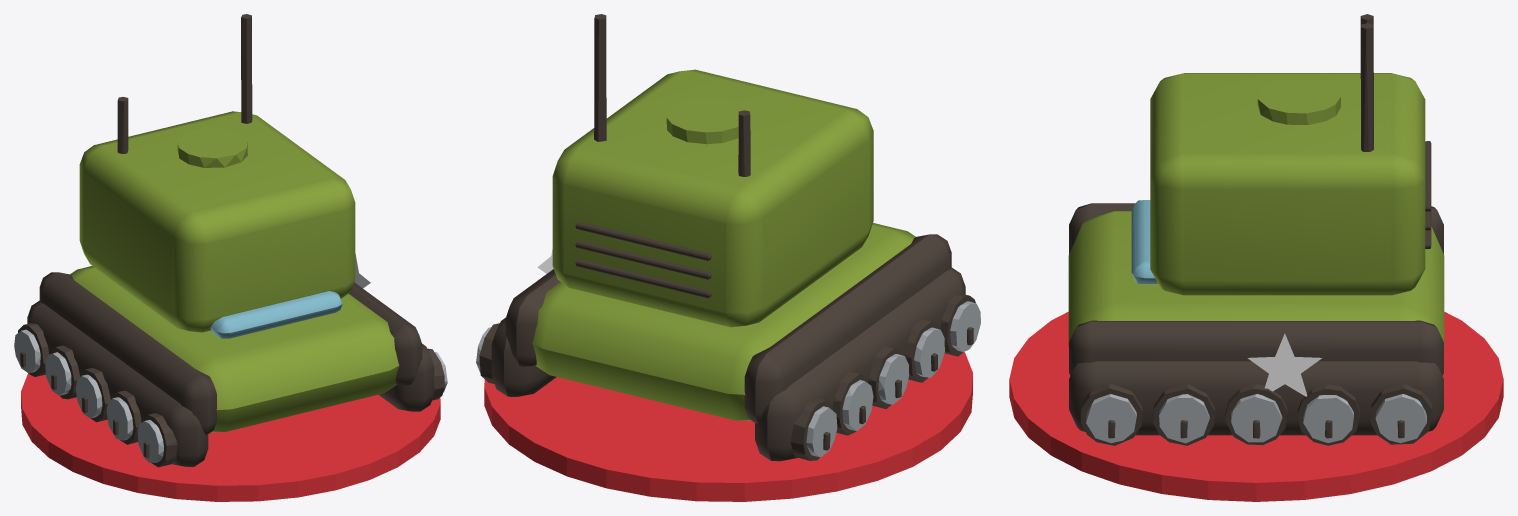
File: usa_headquarters_lod0.glb
3 renders of one model, left to right at view 1: azimuth 30°, elevation 25°; view 2: azimuth 150°, elevation 25°; view 3: azimuth 270°, elevation 25°, orthographic. The views are drawn at different scales.
Visible parts, largest first — view 1: body_hull, base_pedestal; view 2: body_hull, base_pedestal; view 3: body_hull, base_pedestal.
Boxes of the visible parts, left/top/right/bottom form: body_hull: left=14, top=14, right=447, bottom=467; base_pedestal: left=21, top=373, right=440, bottom=501; body_hull: left=476, top=14, right=980, bottom=461; base_pedestal: left=484, top=352, right=972, bottom=501; body_hull: left=1068, top=14, right=1444, bottom=445; base_pedestal: left=1009, top=311, right=1503, bottom=501.
Bounding box in the file's own units: 0.78 × 0.7101 × 0.78.
